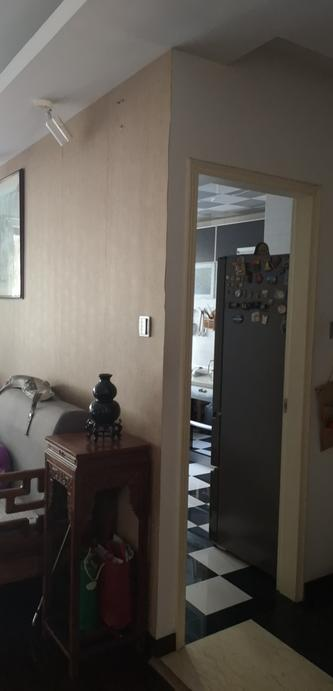switch: (139, 317, 154, 340)
